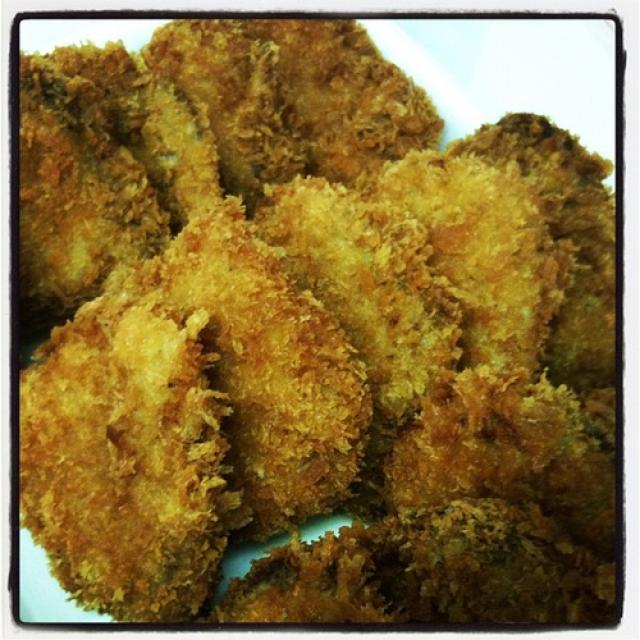牛肉菜式: (23, 47, 608, 608)
